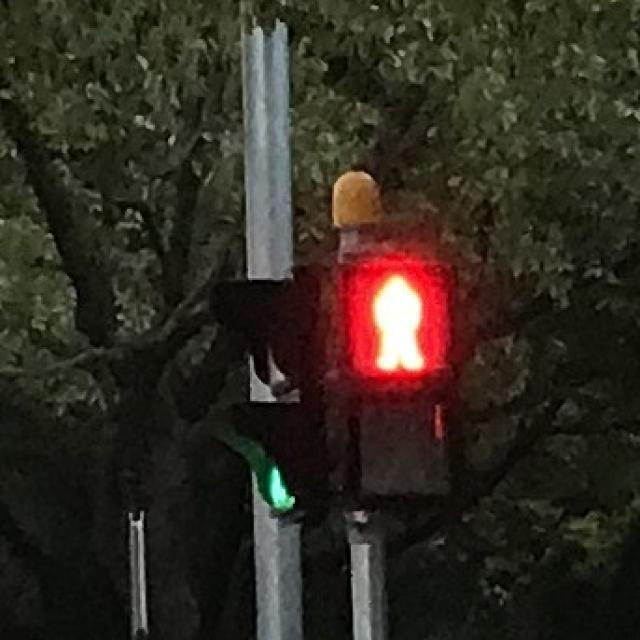red-crossing: (347, 260, 448, 380)
